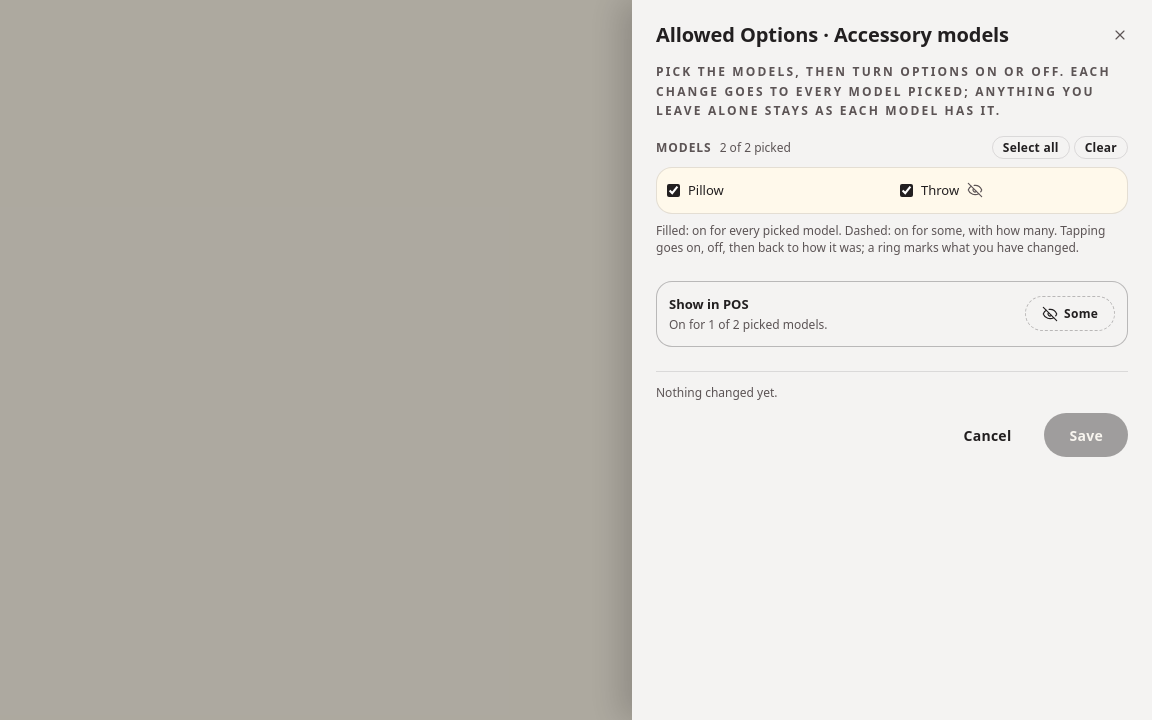
Edit several models › switches Show in POS on for the hidden single-SKU Models
The width and height of the screenshot is (1152, 720).
Expected: the text "On for 1 of 2 picked models." is shown, [669,316,828,334]
Click the button with aria-label "Show in POS": {"x": 1070, "y": 314} [1025,296,1115,331]
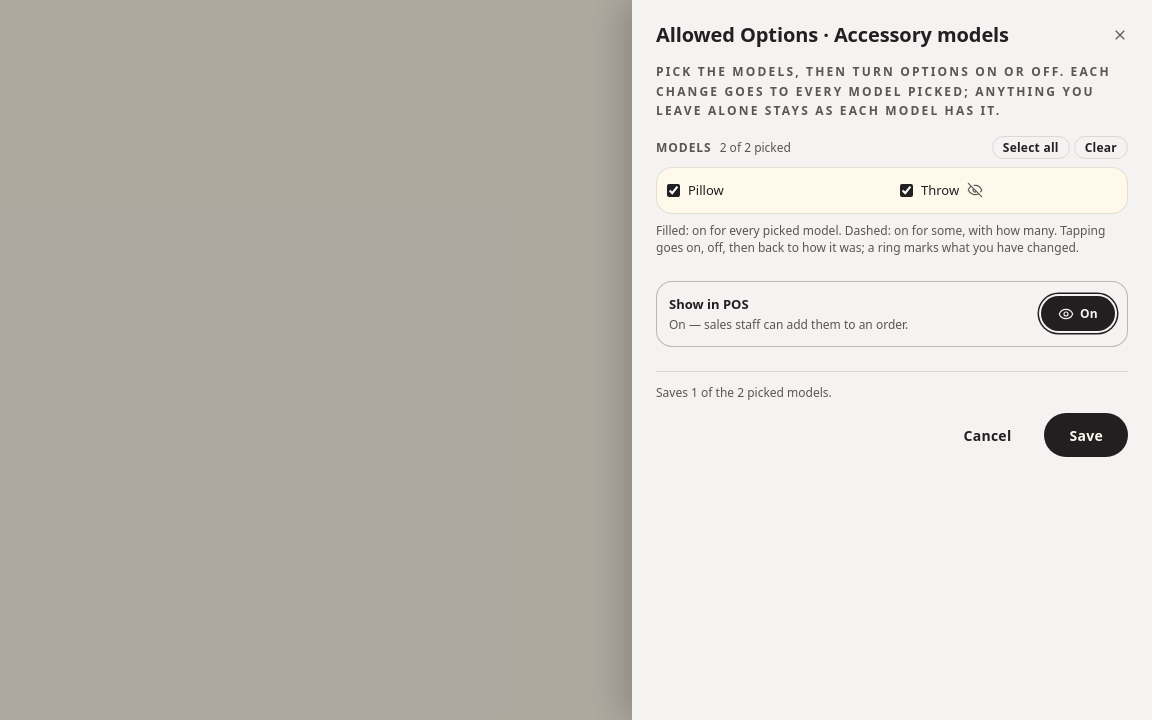
Click the button "Save": {"x": 1086, "y": 435} [1044,413,1128,457]
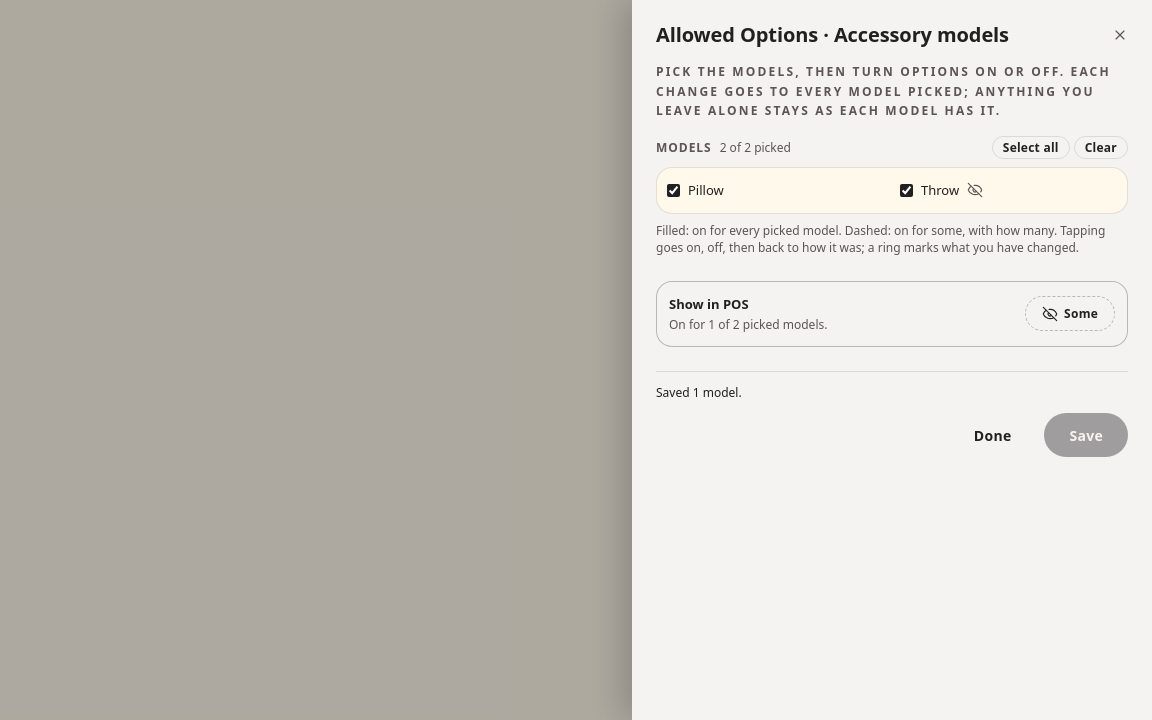
Expected: the text "Saved 1 model." is shown, [656,384,742,401]
